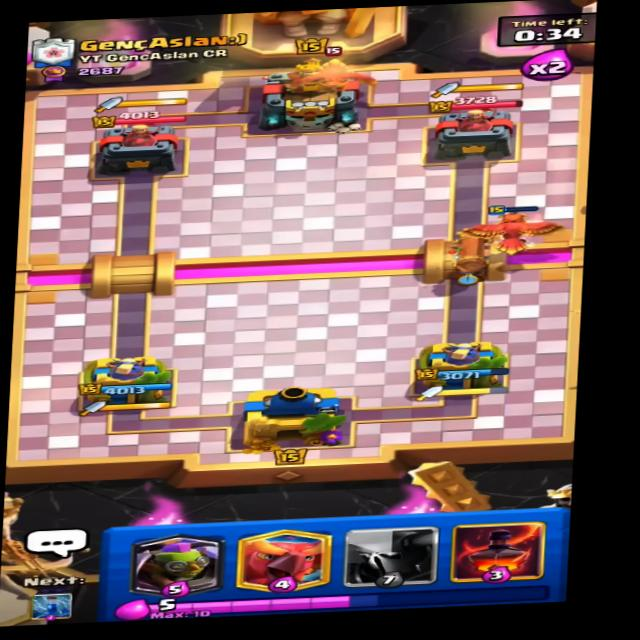phoenix: (267, 41, 400, 98)
